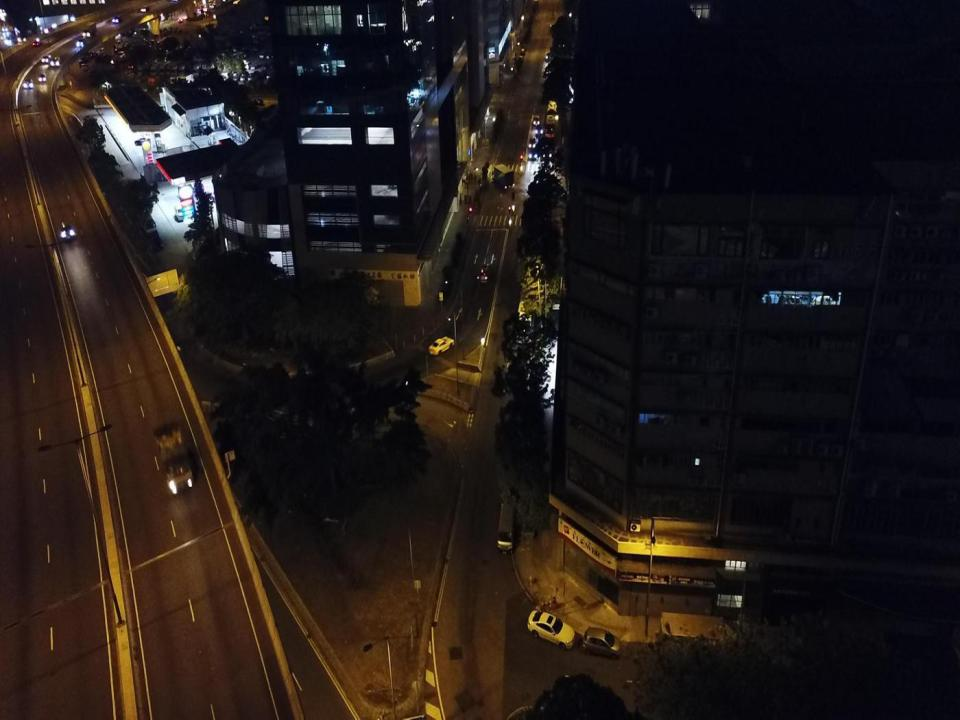bus: (515, 268, 540, 342), (496, 486, 516, 554), (545, 114, 556, 140)
car: (527, 610, 578, 650), (583, 626, 623, 658), (428, 336, 455, 354), (59, 221, 76, 241), (542, 144, 553, 158), (134, 137, 151, 144), (112, 14, 123, 24), (529, 148, 538, 160), (51, 56, 60, 68), (250, 98, 263, 105), (42, 54, 51, 63), (23, 80, 33, 88), (530, 137, 536, 149), (38, 73, 46, 82), (32, 38, 40, 47), (141, 4, 150, 12), (535, 126, 542, 136), (545, 52, 552, 60)
truck: (152, 420, 194, 496), (493, 164, 515, 190), (546, 100, 558, 122), (82, 22, 98, 36), (202, 62, 215, 78), (193, 60, 206, 76), (185, 62, 198, 78), (178, 63, 191, 78), (171, 63, 184, 78), (149, 60, 162, 75), (166, 62, 178, 77), (157, 60, 169, 75), (136, 61, 148, 76)
van: (478, 264, 492, 283), (174, 206, 187, 221), (532, 114, 540, 125), (76, 38, 87, 46)
